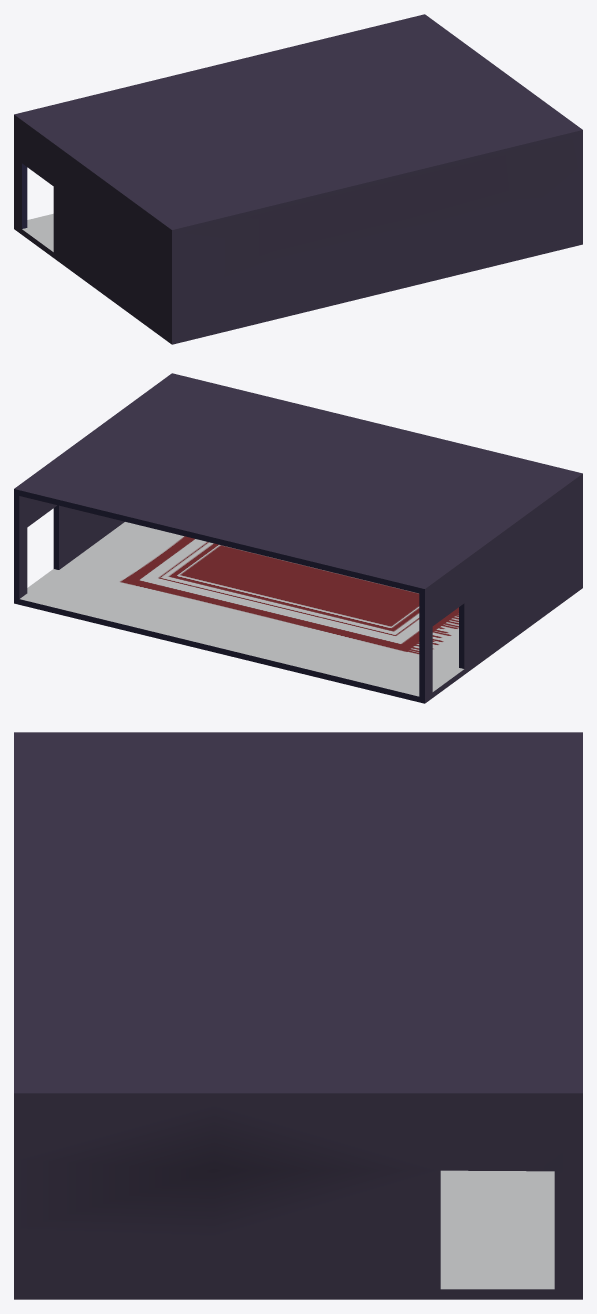
File: ballRoom_2up.fbx
The picture shows the model from 3 angles, top to bottom: view 1: azimuth 30°, elevation 25°; view 2: azimuth 150°, elevation 25°; view 3: azimuth 270°, elevation 25°; orthographic projection. The views are drawn at different scales.
Visible parts, largest first — view 1: ballRoom_2up; view 2: ballRoom_2up; view 3: ballRoom_2up.
Part boxes in pixels (box(x1,y1,x2,y2)): ballRoom_2up: box(14, 14, 582, 344); ballRoom_2up: box(14, 373, 582, 703); ballRoom_2up: box(14, 732, 582, 1299).
Bounding box in the file's own units: 1501 × 400 × 1000.
